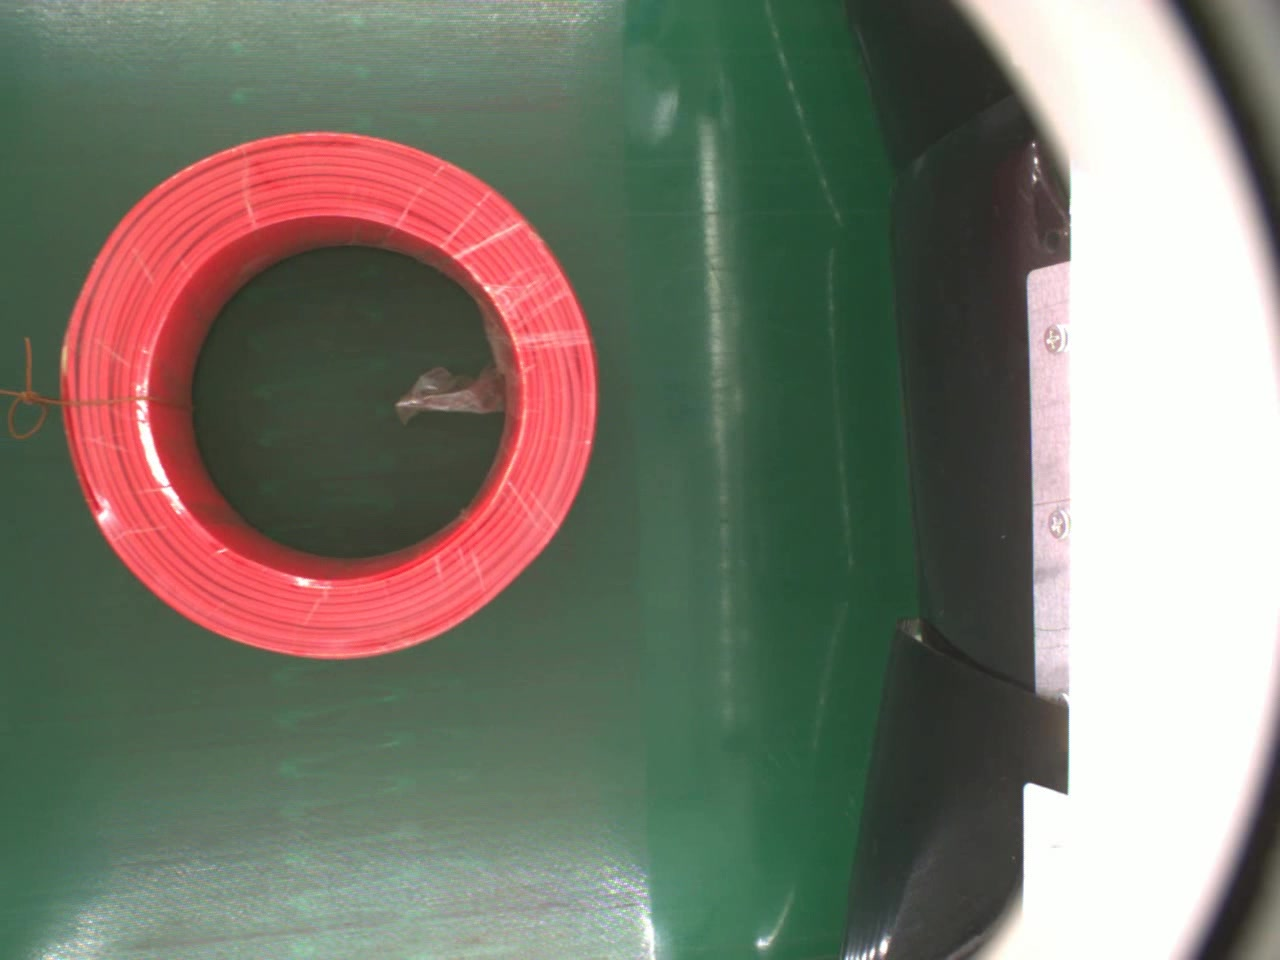red: (59, 124, 599, 670)
